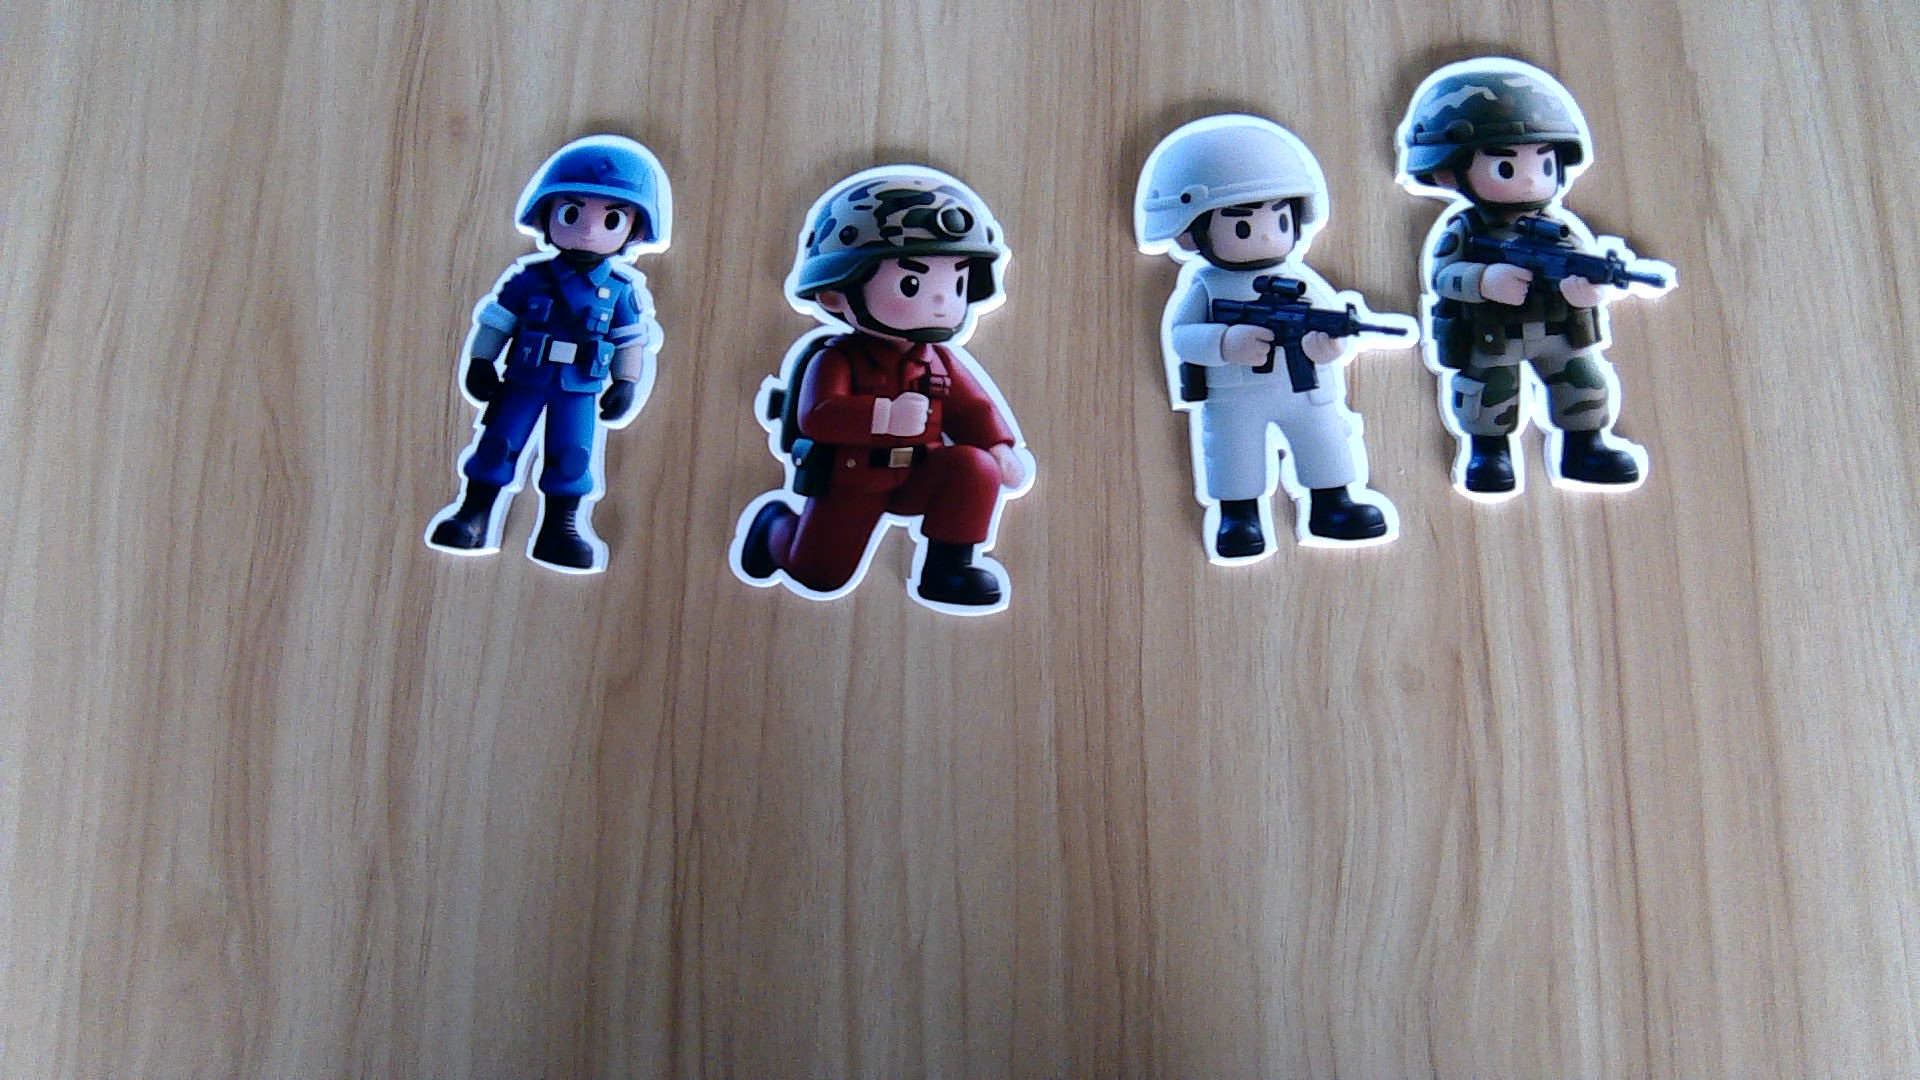人质: (1154, 266, 1422, 558)
友军: (1415, 207, 1679, 504)
敌人1: (723, 339, 1040, 621)
敌人2: (415, 252, 665, 588)
